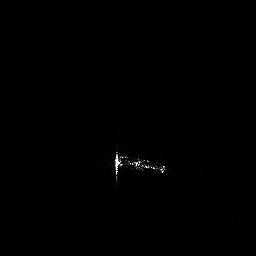ship: (112, 149, 168, 184)
